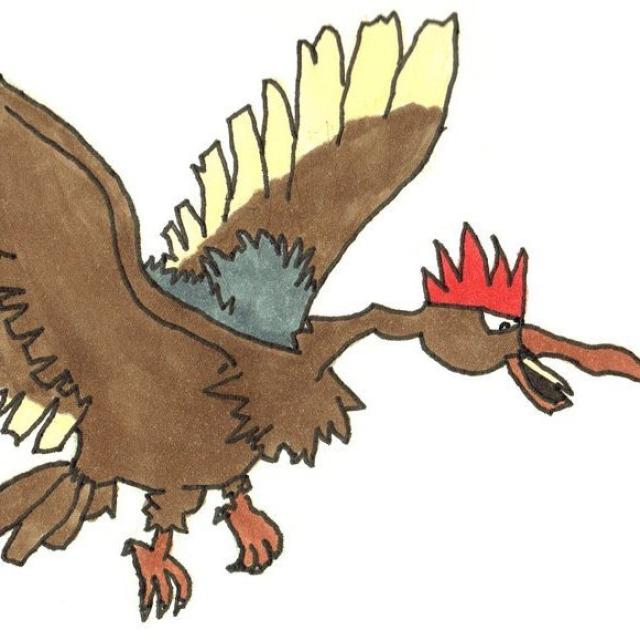Fearow: (0, 224, 578, 566)
